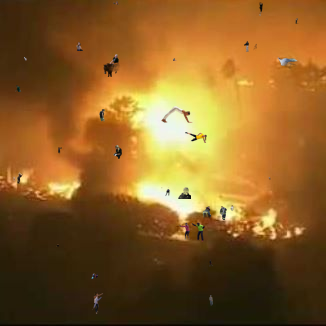Human: (161, 106, 193, 123), (178, 222, 205, 242), (200, 205, 235, 220), (103, 54, 122, 77), (277, 57, 305, 71), (161, 187, 191, 199), (92, 291, 107, 314), (185, 132, 207, 143), (244, 41, 257, 52), (113, 145, 122, 159), (99, 109, 105, 122), (17, 172, 23, 184), (76, 42, 83, 51), (209, 259, 216, 267), (259, 2, 263, 16), (89, 273, 98, 279), (209, 295, 213, 306), (15, 85, 21, 92), (58, 147, 62, 155), (295, 18, 300, 24), (113, 1, 119, 5), (12, 177, 16, 181), (173, 58, 178, 61), (24, 57, 27, 61), (56, 244, 59, 247), (268, 177, 271, 180)
